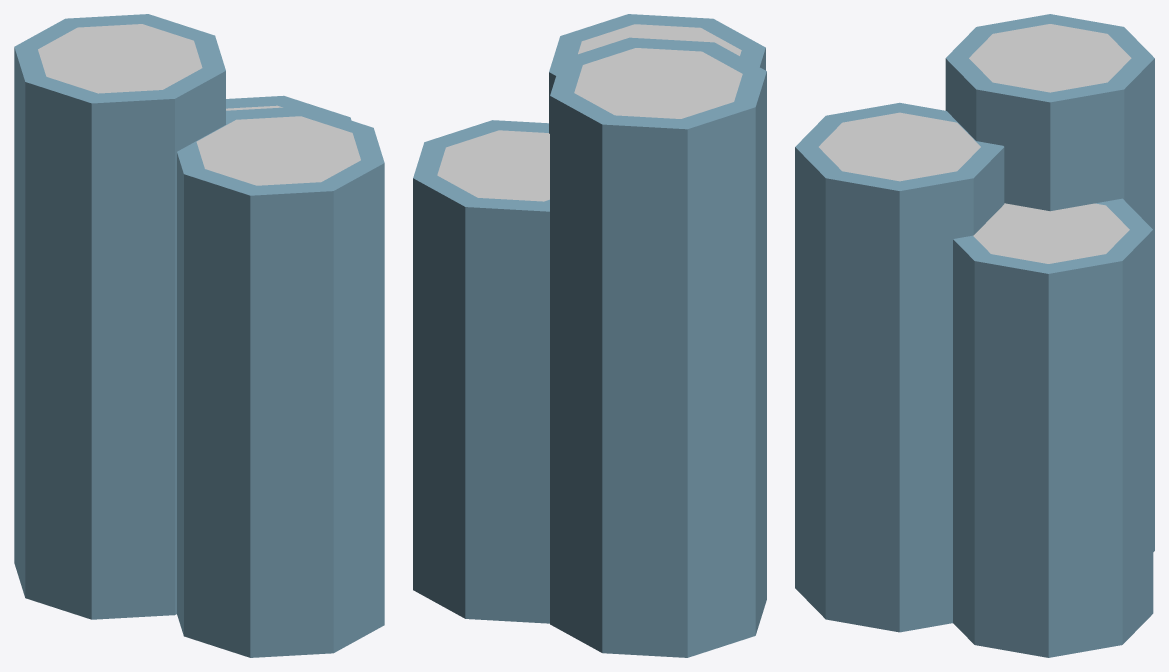
The model's file is museumPilar.fbx.
3 renders of one model, left to right at view 1: azimuth 30°, elevation 25°; view 2: azimuth 150°, elevation 25°; view 3: azimuth 270°, elevation 25°, orthographic. The views are drawn at different scales.
Visible parts, largest first — view 1: Cylinder.001, Cylinder, Cylinder.002; view 2: Cylinder, Cylinder.002, Cylinder.001; view 3: Cylinder.002, Cylinder.001, Cylinder.
Boxes of the visible parts, bbox=[...] form: Cylinder.001: bbox=[177, 106, 384, 657]; Cylinder: bbox=[14, 14, 225, 619]; Cylinder.002: bbox=[226, 95, 351, 120]; Cylinder: bbox=[550, 37, 766, 657]; Cylinder.002: bbox=[413, 120, 549, 623]; Cylinder.001: bbox=[549, 14, 765, 133]; Cylinder.002: bbox=[953, 198, 1153, 657]; Cylinder.001: bbox=[795, 102, 1004, 632]; Cylinder: bbox=[945, 14, 1154, 551].
Size of the model in its own units: 603 by 917 by 606.
